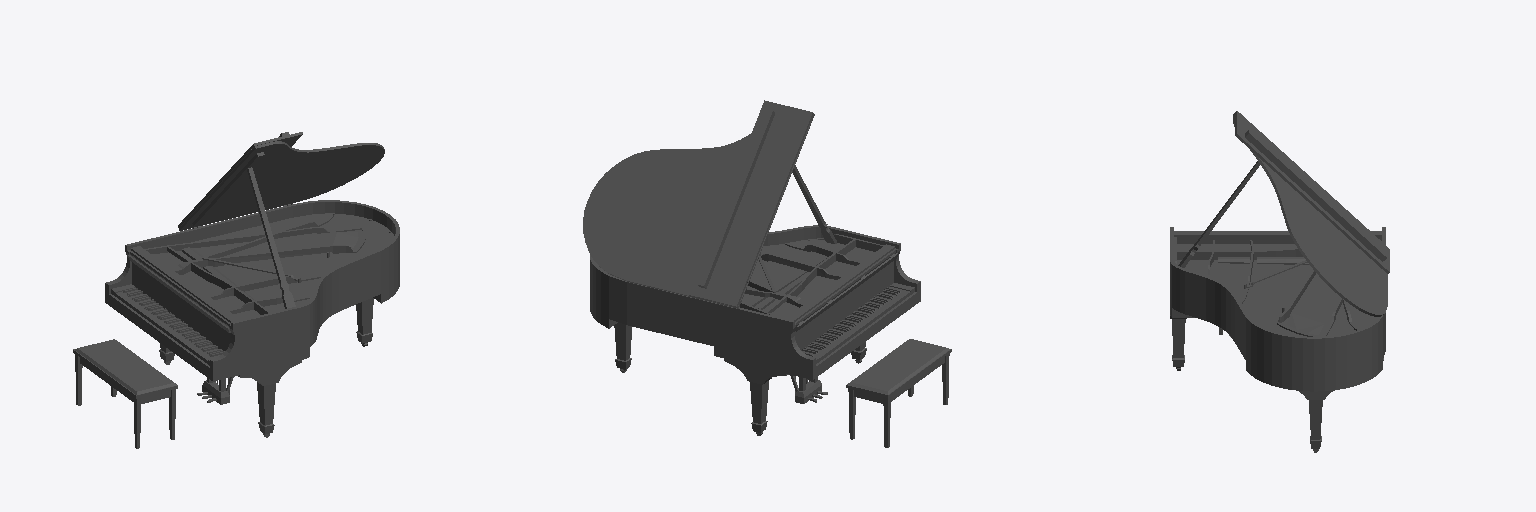
File: kiosque_4.obj
3 renders of one model, left to right at view 1: azimuth 30°, elevation 25°; view 2: azimuth 150°, elevation 25°; view 3: azimuth 270°, elevation 25°, orthographic.
Bounding box in the file's own units: 2.5 × 2.11 × 1.57.